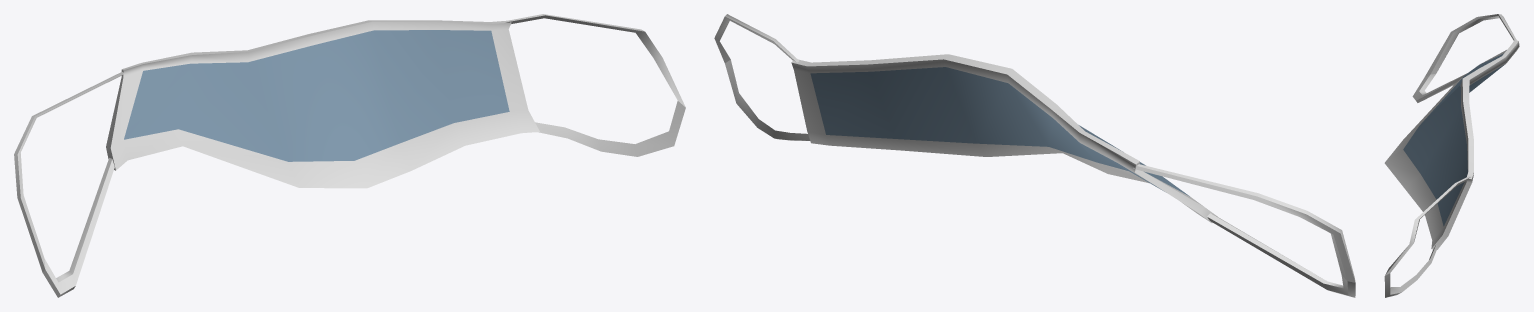
The model's file is SM_Facemask_3.fbx.
The picture shows the model from 3 angles, left to right: view 1: azimuth 30°, elevation 25°; view 2: azimuth 150°, elevation 25°; view 3: azimuth 270°, elevation 25°; orthographic projection. The views are drawn at different scales.
Parts seen in each view (by area): view 1: SM_Facemask_3; view 2: SM_Facemask_3; view 3: SM_Facemask_3.
Part boxes in pixels (x1,y1,x2,y2): SM_Facemask_3: (14,14,685,297); SM_Facemask_3: (714,14,1355,297); SM_Facemask_3: (1384,14,1519,297).
Bounding box in the file's own units: 56.64 × 14.65 × 14.47.
